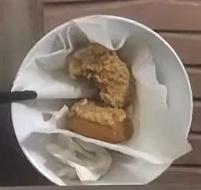donut: (67, 42, 130, 107), (66, 98, 131, 141)
